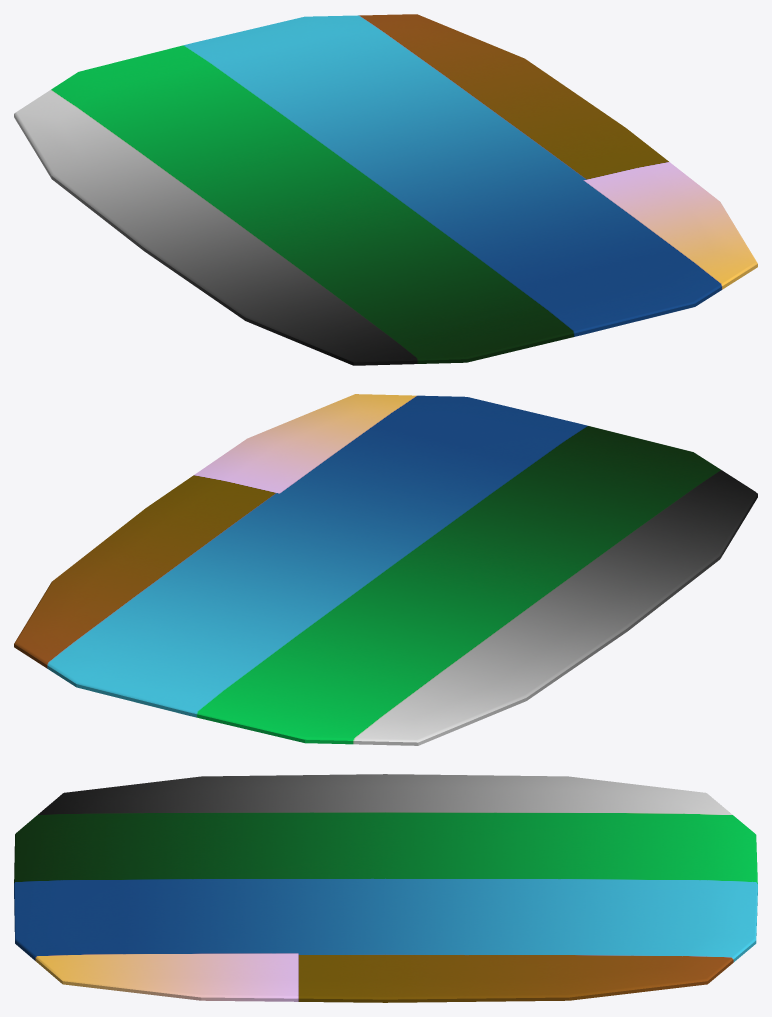
File: Rug.fbx
3 renders of one model, top to bottom at view 1: azimuth 30°, elevation 25°; view 2: azimuth 150°, elevation 25°; view 3: azimuth 270°, elevation 25°, orthographic. The views are drawn at different scales.
Parts seen in each view (by area): view 1: Rug; view 2: Rug; view 3: Rug.
Part boxes in pixels (x1=…): Rug: x1=14, y1=14, x2=757, y2=365; Rug: x1=14, y1=394, x2=757, y2=745; Rug: x1=14, y1=774, x2=757, y2=1002.
Bounding box in the file's own units: 2.54 × 0.0456 × 3.56.
